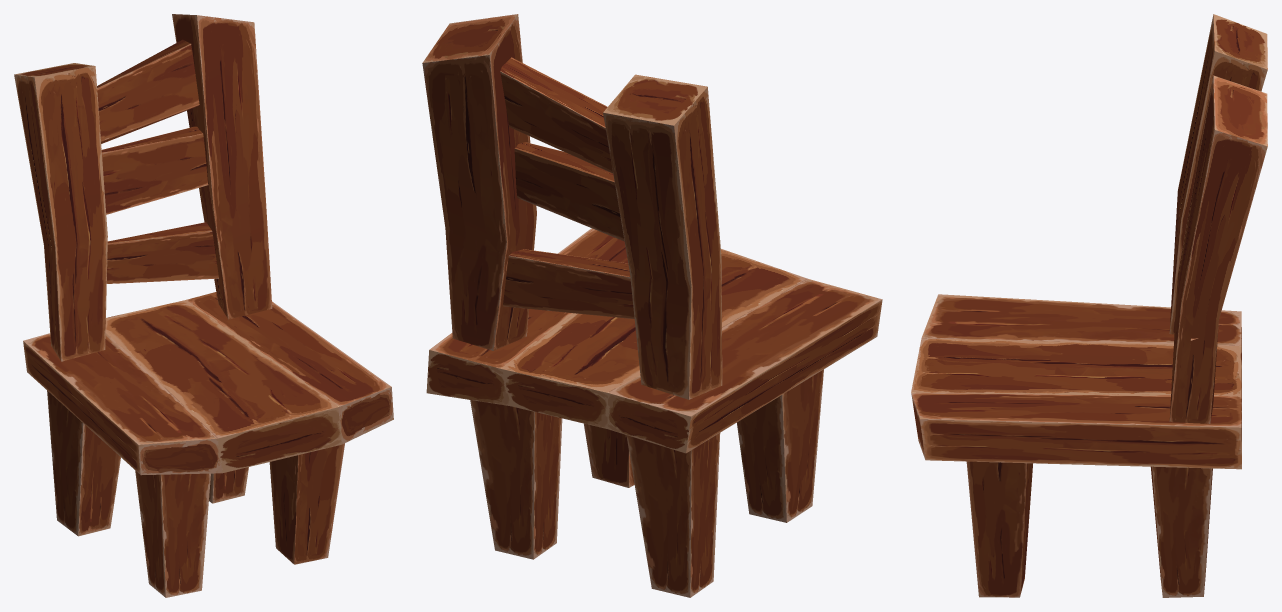
The model's file is SM_PROP_chair_03.fbx.
3 renders of one model, left to right at view 1: azimuth 30°, elevation 25°; view 2: azimuth 150°, elevation 25°; view 3: azimuth 270°, elevation 25°, orthographic. The views are drawn at different scales.
Visible parts, largest first — view 1: SM_PROP_chair_03; view 2: SM_PROP_chair_03; view 3: SM_PROP_chair_03.
Part boxes in pixels (x1=…): SM_PROP_chair_03: x1=14, y1=14, x2=393, y2=597; SM_PROP_chair_03: x1=422, y1=14, x2=882, y2=597; SM_PROP_chair_03: x1=911, y1=14, x2=1267, y2=597.
Bounding box in the file's own units: 54.05 × 96.78 × 61.4.
